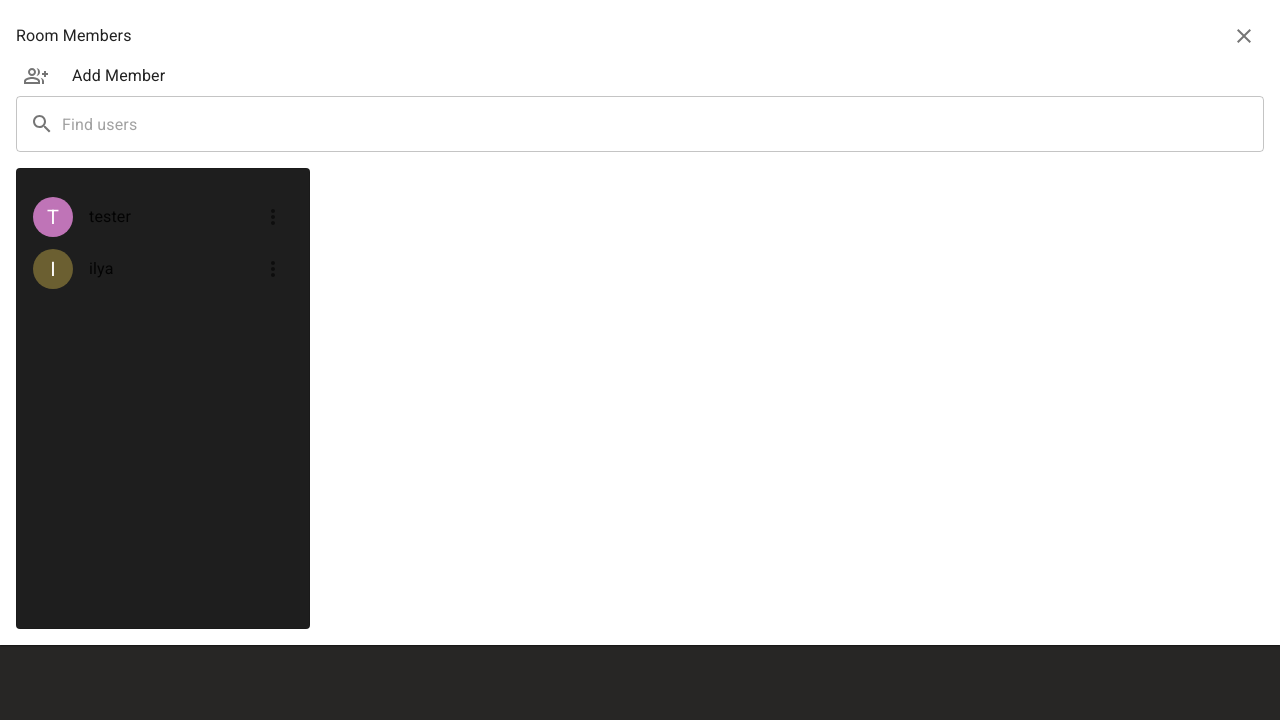
it: Member component tests › should search work in list
Expected: the number of list items is 2, [33,197,293,237]; [33,249,293,289]
Type "ilya" into the field with placeholder "Find users".
click(663, 124); type("ilya")  # box [62,96,1264,152]
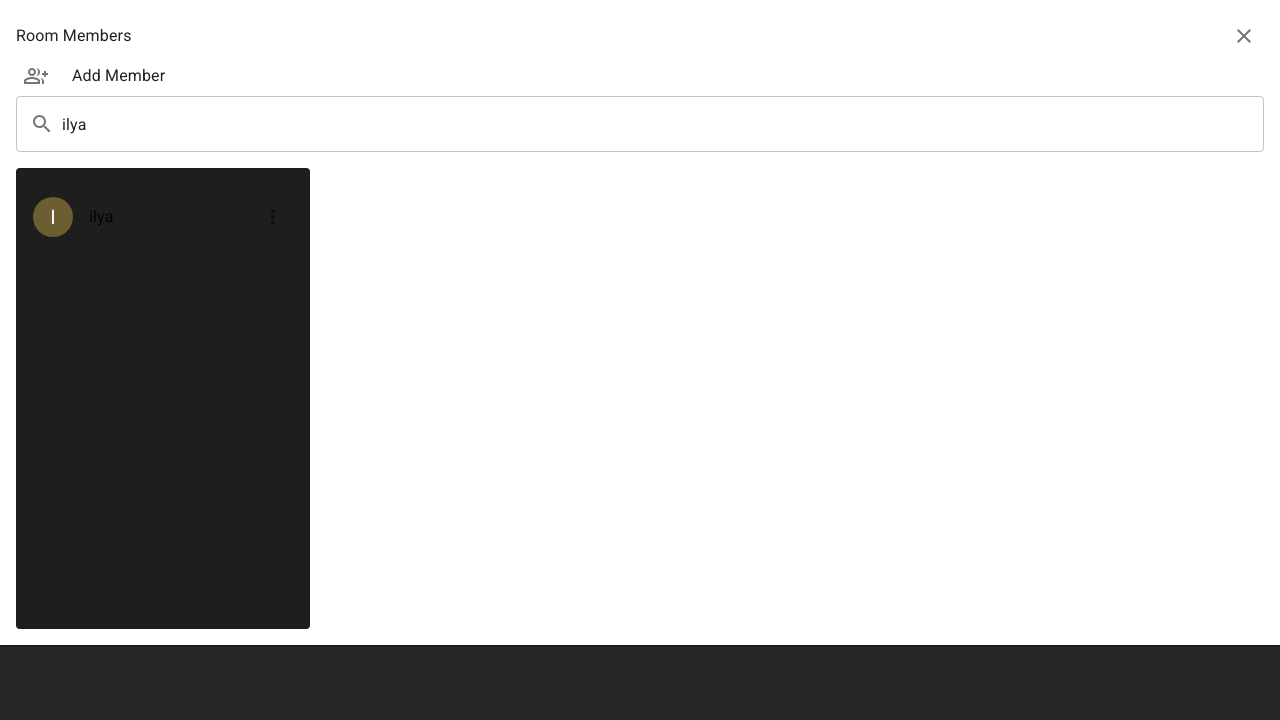
Expected: the text "ilya" is shown, [89,205,114,229]
Expected: the number of list items is 1, [33,197,293,237]
